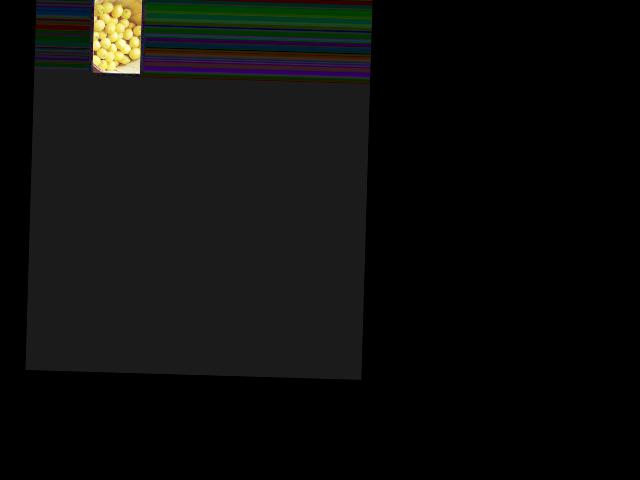lemon: (131, 25, 140, 37)
